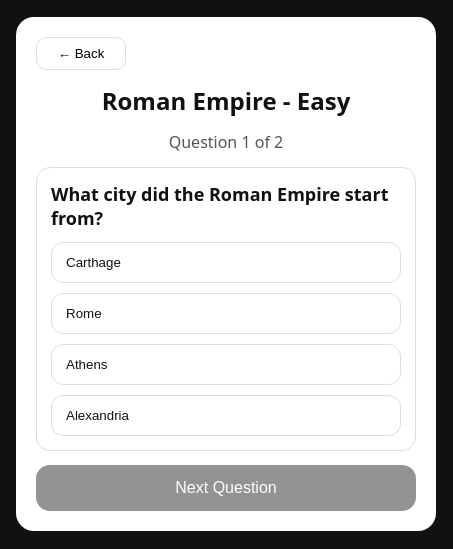
PracticeScreen › moves to the next question after selecting an answer
Click the button "Rome" at point(84, 314), box x1=51 y1=293 x2=401 y2=334
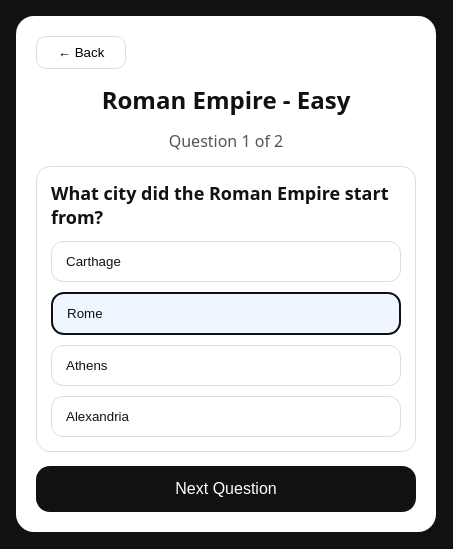
Click the button "Next Question" at point(226, 489), box x1=36 y1=466 x2=416 y2=512
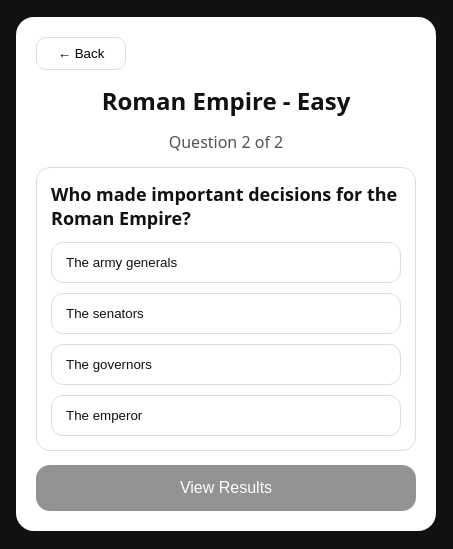
Expected: the text "Question 2 of 2" is shown, x1=169 y1=131 x2=283 y2=153
Expected: the text "Who made important decisions for the Roman Empire?" is shown, x1=51 y1=182 x2=401 y2=230
